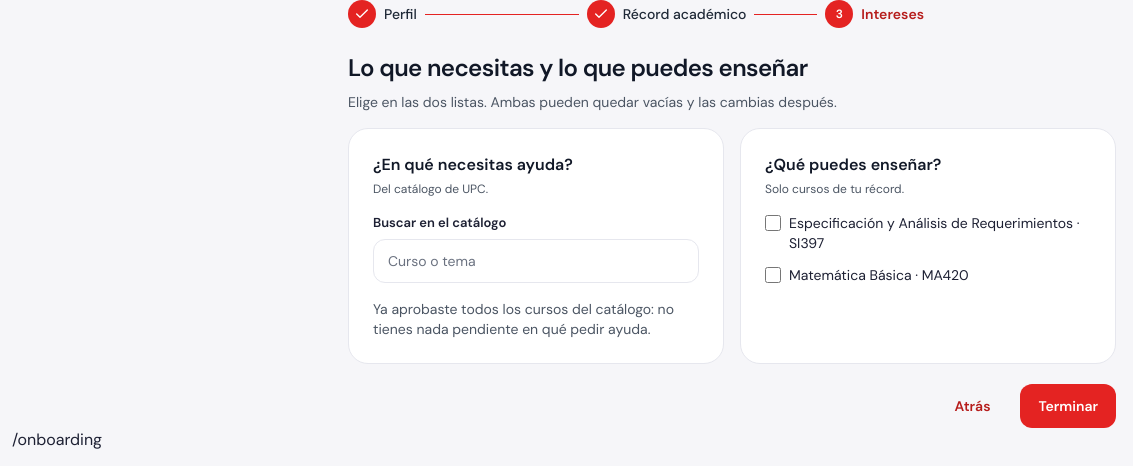
Test: FE-03 onboarding › keeps the search-miss message when a search finds nothing, instead of the approved-everything one
This screenshot has width=1133, height=466.
Expected: the heading "Lo que necesitas y lo que puedes enseñar" is shown, [348,52,808,83]
In the search field labelled "Buscar en el catálogo": (536, 260) [373,238,699,282], type "zzz"
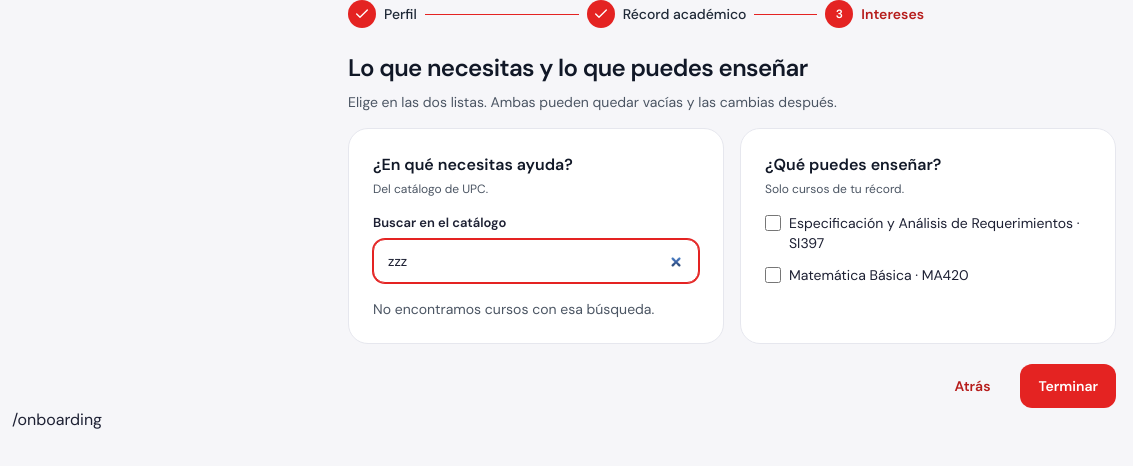
Expected: the text "No encontramos cursos con esa búsqueda." is shown, [373,298,699,318]
